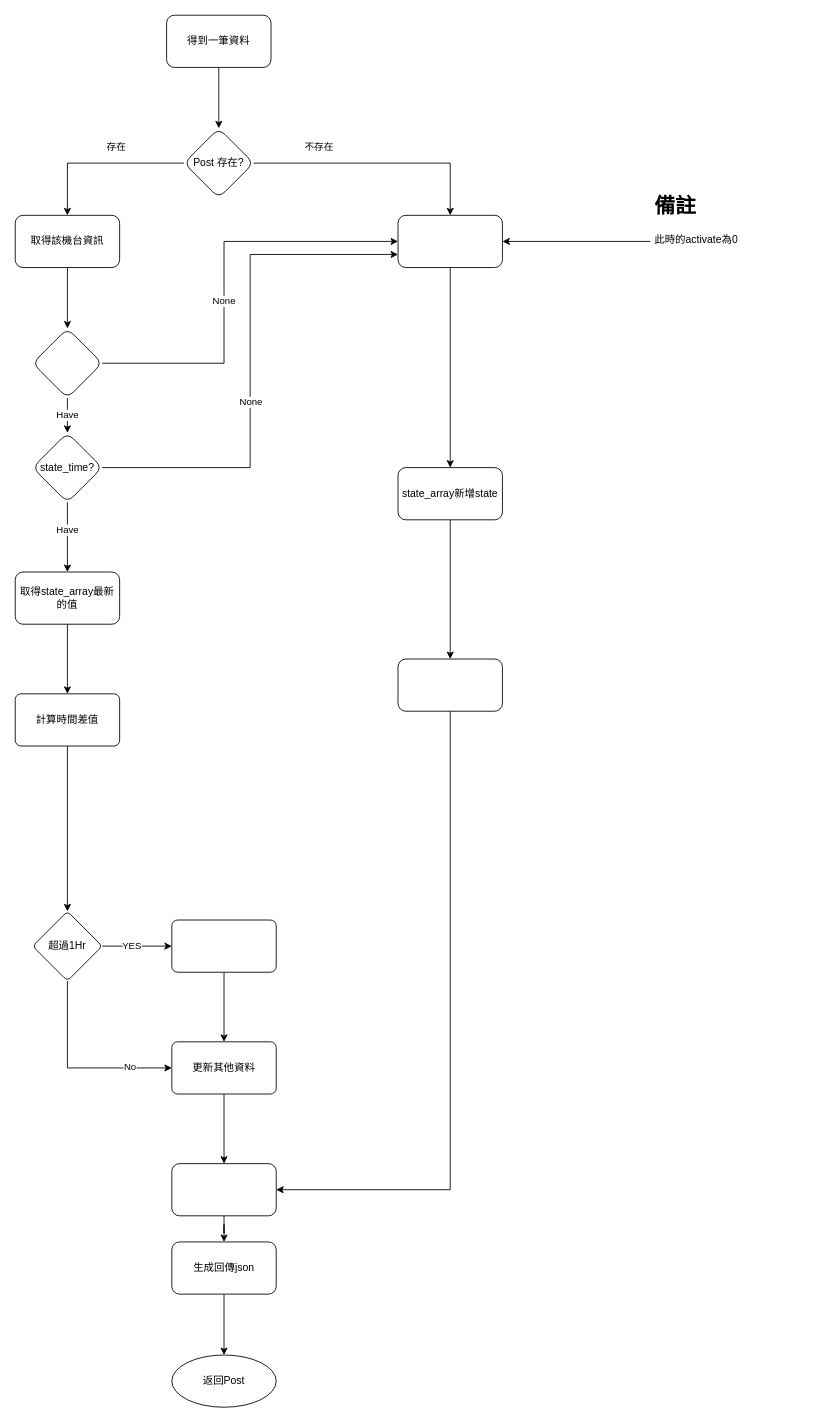
The diagram is 831 pixels wide and 1422 high, and some of its shapes have lost their labels. The shapes that lost their labels are listed below. From the top down, each one's centre as x and y in pixels, then its label:
(449,241): 填原始資料上去
(67,363): state_array值?
(449,684): state_time=timestep
(223,945): 依照1HR為單位新增state到state_array裡，更新fixtime
(223,1189): 計算ago字串
